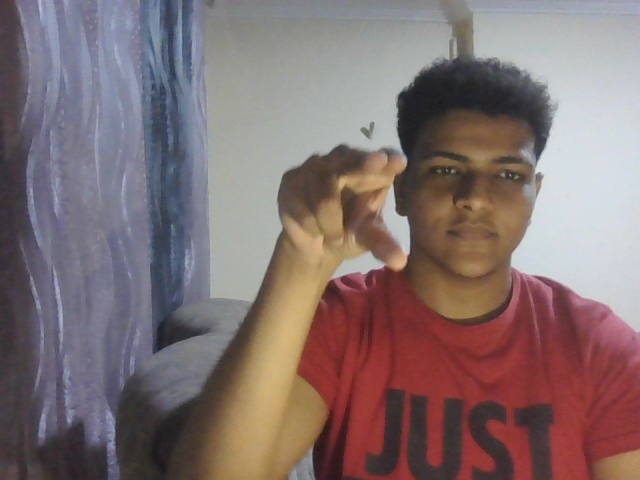no: (259, 127, 414, 302)
